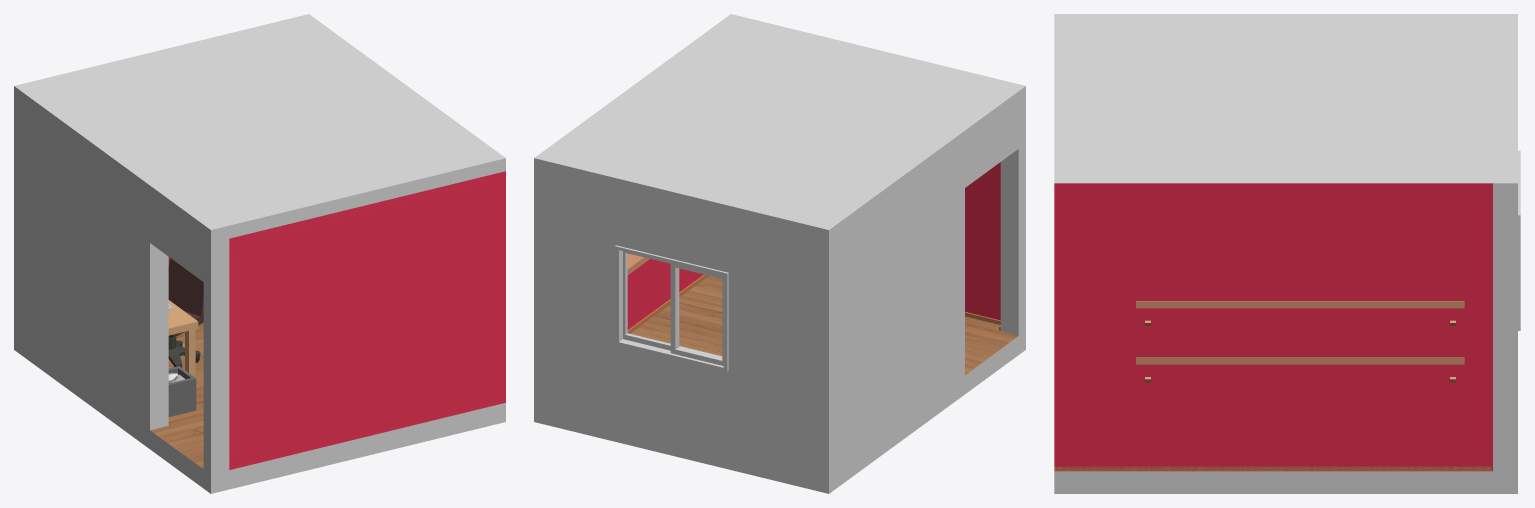
File: Room.fbx
The picture shows the model from 3 angles, left to right: view 1: azimuth 30°, elevation 25°; view 2: azimuth 150°, elevation 25°; view 3: azimuth 270°, elevation 25°; orthographic projection. The views are drawn at different scales.
Parts seen in each view (by area): view 1: Room; view 2: Room; view 3: Room.
Boxes of the visible parts, x1,y1,x2,y2 form: Room: (14,14,505,493); Room: (534,14,1025,493); Room: (1054,14,1520,493).
Size of the model in its own units: 322 by 274 by 372.
1 material, 1 textured.
